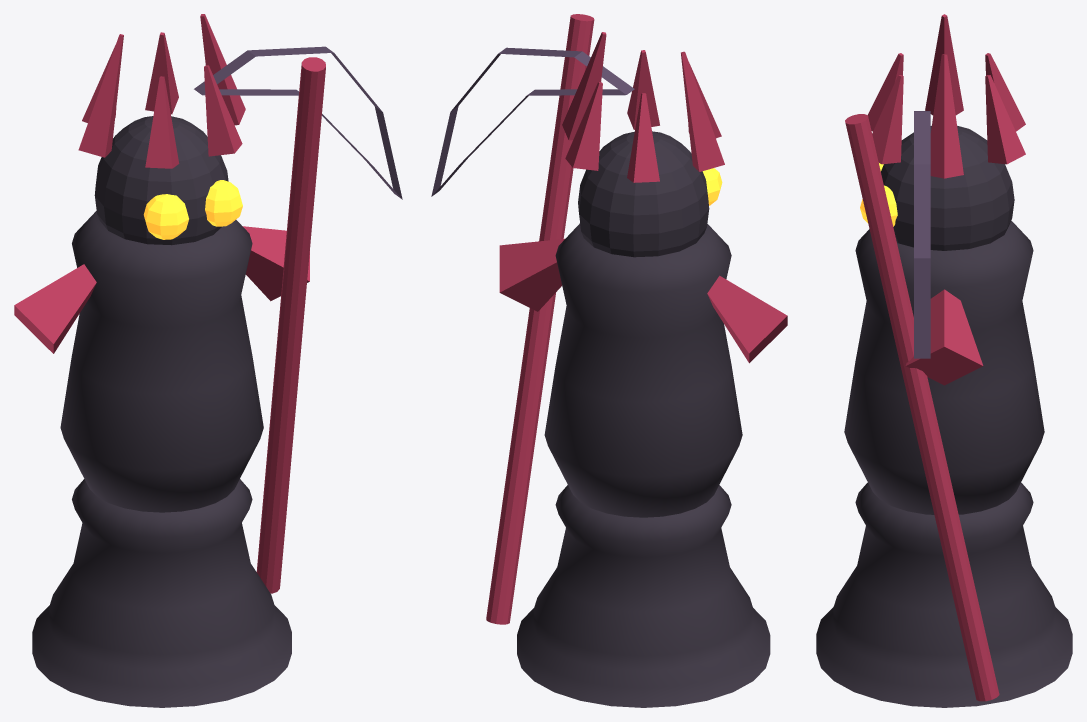
Rendered from king_b.glb.
3 views of the same model, side by side, from view 1: azimuth 30°, elevation 25°; view 2: azimuth 150°, elevation 25°; view 3: azimuth 270°, elevation 25° (orthographic). The views are drawn at different scales.
Visible parts, largest first — view 1: King_Robe, King_Base, Hình Trụ.010, Hình Cầu.058, Hình Nón.116, King_Blade, Hình Nón.121, Hình Nón.117, Hình Nón.123, Hình Nón.122, Hình Cầu.059, Hình Nón.118 (+2 smaller); view 2: King_Robe, King_Base, Hình Trụ.010, Hình Cầu.058, Hình Nón.117, Hình Nón.116, King_Blade, Hình Nón.121, Hình Nón.119, Hình Nón.120, Hình Nón.118, Hình Nón.123; view 3: King_Base, King_Robe, Hình Trụ.010, Hình Cầu.058, King_Blade, Hình Nón.117, Hình Nón.118, Hình Nón.119, Hình Nón.123, Hình Nón.121, Hình Nón.120, Hình Nón.122.
Part boxes in pixels (x1=…): King_Robe: x1=60, y1=211, x2=263, y2=512; King_Base: x1=32, y1=479, x2=291, y2=707; Hình Trụ.010: x1=256, y1=57, x2=325, y2=593; Hình Cầu.058: x1=94, y1=116, x2=228, y2=245; Hình Nón.116: x1=14, y1=264, x2=96, y2=353; King_Blade: x1=194, y1=46, x2=402, y2=199; Hình Nón.121: x1=78, y1=34, x2=123, y2=157; Hình Nón.117: x1=242, y1=226, x2=309, y2=301; Hình Nón.123: x1=204, y1=65, x2=242, y2=156; Hình Nón.122: x1=145, y1=76, x2=179, y2=168; Hình Cầu.059: x1=143, y1=194, x2=188, y2=239; Hình Nón.118: x1=200, y1=14, x2=245, y2=125; King_Robe: x1=544, y1=223, x2=742, y2=517; King_Base: x1=517, y1=485, x2=770, y2=707; Hình Trụ.010: x1=486, y1=14, x2=594, y2=624; Hình Cầu.058: x1=578, y1=131, x2=709, y2=257; Hình Nón.117: x1=499, y1=238, x2=564, y2=311; Hình Nón.116: x1=707, y1=275, x2=787, y2=363; King_Blade: x1=431, y1=47, x2=634, y2=196; Hình Nón.121: x1=681, y1=51, x2=724, y2=171; Hình Nón.119: x1=565, y1=82, x2=602, y2=170; Hình Nón.120: x1=627, y1=93, x2=659, y2=182; Hình Nón.118: x1=562, y1=32, x2=606, y2=140; Hình Nón.123: x1=627, y1=50, x2=659, y2=129; King_Base: x1=816, y1=482, x2=1072, y2=707; King_Robe: x1=844, y1=220, x2=1044, y2=514; Hình Trụ.010: x1=845, y1=114, x2=999, y2=701; Hình Cầu.058: x1=881, y1=125, x2=1014, y2=250; King_Blade: x1=914, y1=111, x2=930, y2=358; Hình Nón.117: x1=905, y1=289, x2=983, y2=385; Hình Nón.118: x1=930, y1=54, x2=963, y2=178; Hình Nón.119: x1=985, y1=75, x2=1025, y2=164; Hình Nón.123: x1=872, y1=75, x2=903, y2=164; Hình Nón.121: x1=925, y1=14, x2=963, y2=115; Hình Nón.120: x1=985, y1=53, x2=1025, y2=131; Hình Nón.122: x1=868, y1=53, x2=903, y2=131.
Bounding box in the file's own units: 0.7621 × 1.23 × 0.46.
